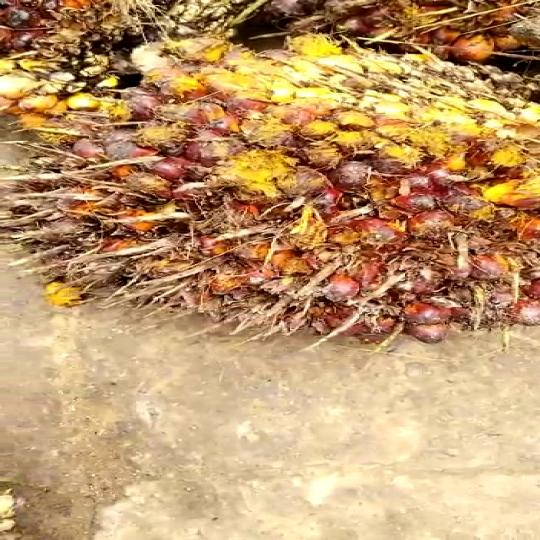masak: (0, 0, 540, 330)
